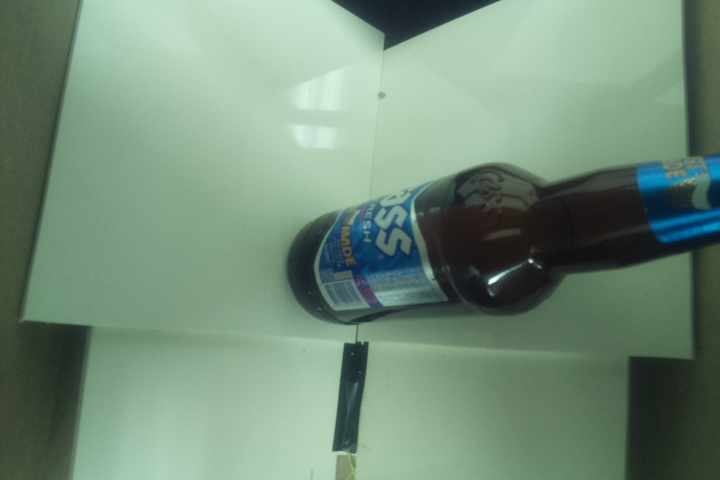makju: (284, 149, 720, 327)
